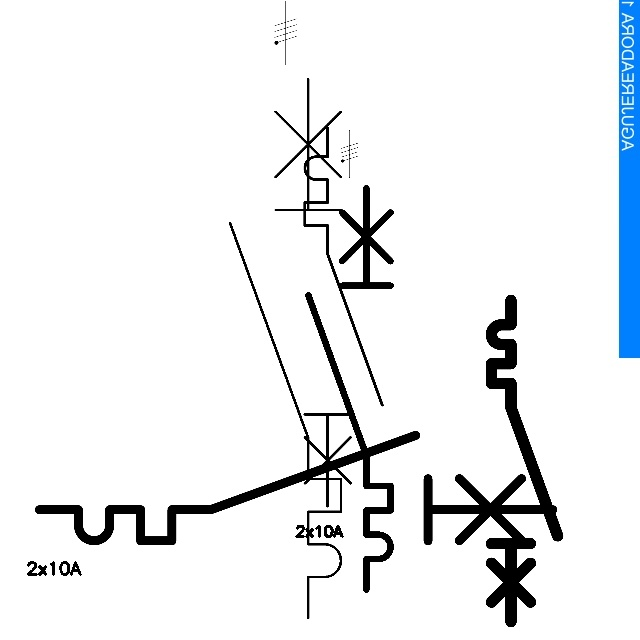interruptor_termomagnetico: (216, 65, 355, 632), (26, 422, 566, 554), (298, 177, 401, 599), (295, 118, 392, 516), (483, 292, 566, 630)
